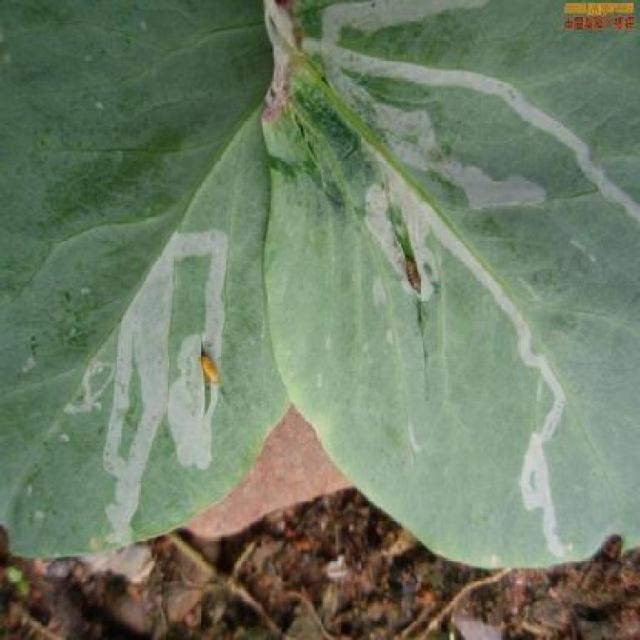whorl-maggot: (398, 251, 429, 300), (197, 342, 226, 391)
